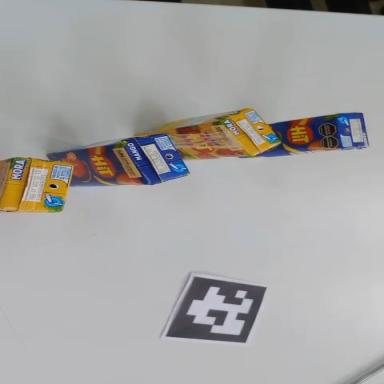HIT-MANGO: (47, 134, 188, 185), (257, 111, 368, 158)
HIT-MORA: (138, 107, 280, 161), (0, 156, 73, 215)
cara_F: (133, 120, 254, 163), (234, 113, 343, 158), (45, 143, 151, 187), (0, 158, 14, 199)
